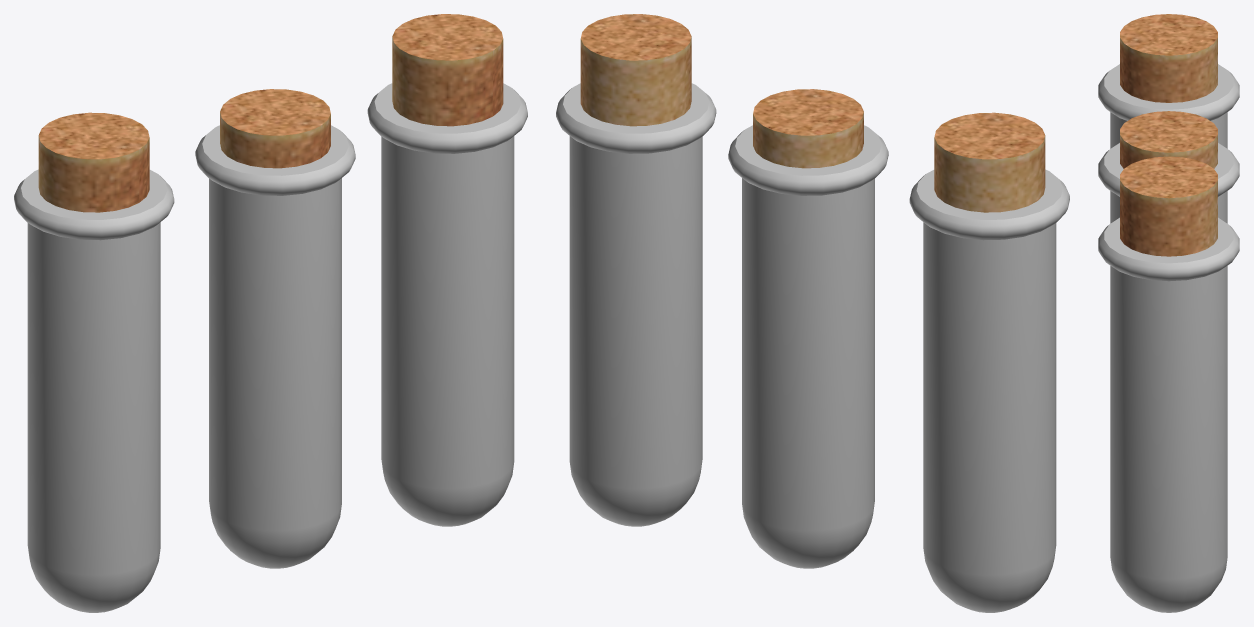
Rendered from ExportElixirBottles.FBX.
3 views of the same model, side by side, from view 1: azimuth 30°, elevation 25°; view 2: azimuth 150°, elevation 25°; view 3: azimuth 270°, elevation 25° (orthographic). The views are drawn at different scales.
Visible parts, largest first — view 1: poison_C_01, poison_A_01, poison_B_01, poison_C_03, poison_A_03, poison_B_03; view 2: poison_C_01, poison_A_01, poison_B_01, poison_C_03, poison_A_03, poison_B_03; view 3: poison_C_01, poison_C_03, poison_A_03, poison_B_03, poison_A_01, poison_B_01.
Boxes of the visible parts, bbox=[...] form: poison_C_01: bbox=[367, 83, 527, 526]; poison_A_01: bbox=[14, 169, 174, 612]; poison_B_01: bbox=[195, 125, 355, 568]; poison_C_03: bbox=[392, 14, 503, 126]; poison_A_03: bbox=[38, 112, 149, 212]; poison_B_03: bbox=[220, 89, 330, 168]; poison_C_01: bbox=[556, 83, 716, 526]; poison_A_01: bbox=[909, 169, 1069, 612]; poison_B_01: bbox=[728, 125, 888, 568]; poison_C_03: bbox=[580, 14, 691, 126]; poison_A_03: bbox=[934, 112, 1045, 212]; poison_B_03: bbox=[753, 89, 863, 168]; poison_C_01: bbox=[1098, 217, 1239, 612]; poison_C_03: bbox=[1120, 156, 1217, 256]; poison_A_03: bbox=[1120, 14, 1217, 102]; poison_B_03: bbox=[1120, 111, 1217, 168]; poison_A_01: bbox=[1098, 64, 1239, 148]; poison_B_01: bbox=[1098, 143, 1239, 223].
Bounding box in the file's own units: 10.75 × 3 × 10.08.
